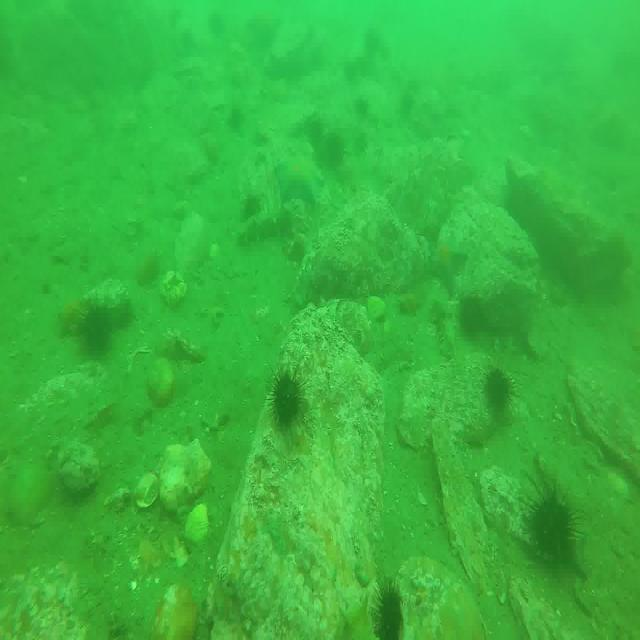echinus: (530, 481, 573, 561), (371, 581, 407, 640), (269, 367, 301, 428), (483, 364, 515, 415), (82, 305, 111, 360), (461, 293, 484, 339), (327, 134, 344, 166), (306, 120, 323, 146)
holothurian: (235, 205, 298, 251), (432, 291, 458, 360)
starfish: (276, 144, 326, 208)
